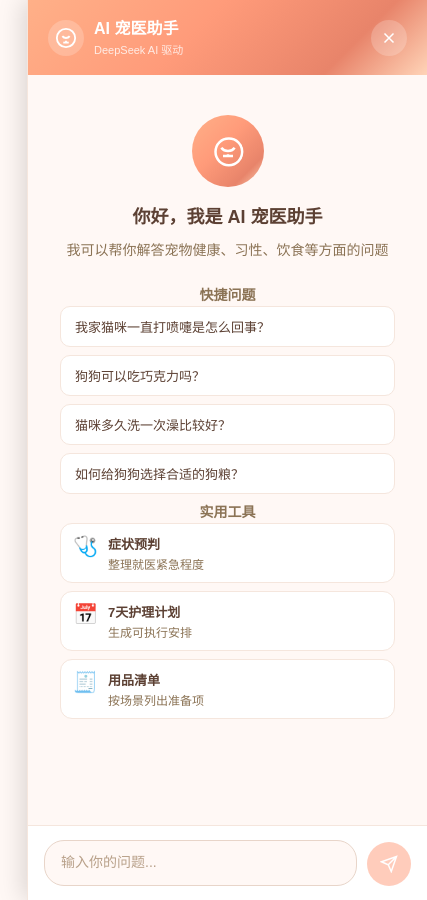
AIPetDoctorChat - 模拟 API 测试 › 发送消息成功，显示回复内容
The image size is (427, 900).
In the text box with placeholder "输入你的问题...": (200, 863) [44,840,357,886], type "猫咪打喷嚏"
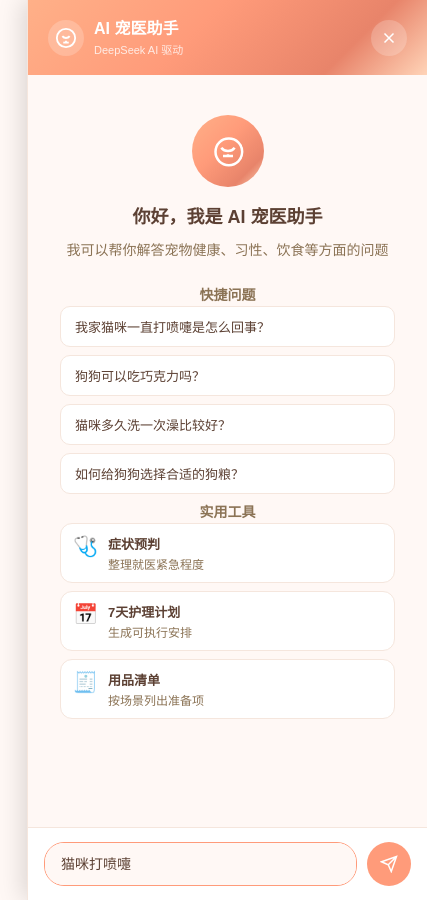
Click the 9th button: (389, 864) [367,842,411,886]
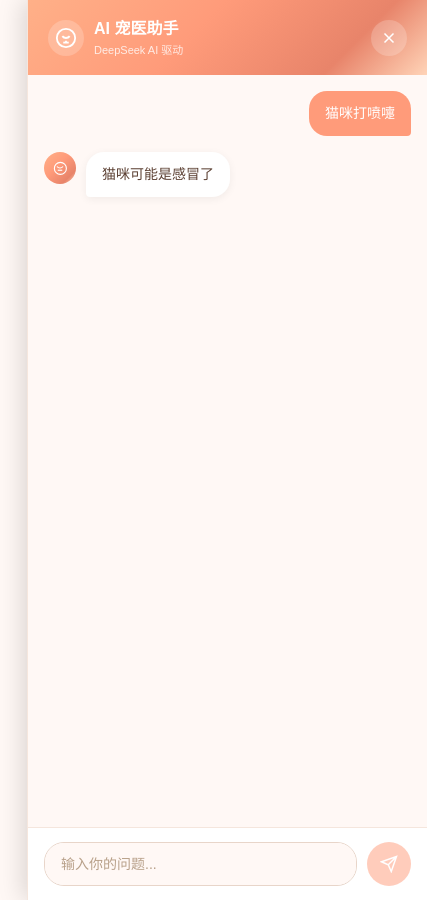
Expected: the text "猫咪可能是感冒了" is shown, [86,152,230,197]
